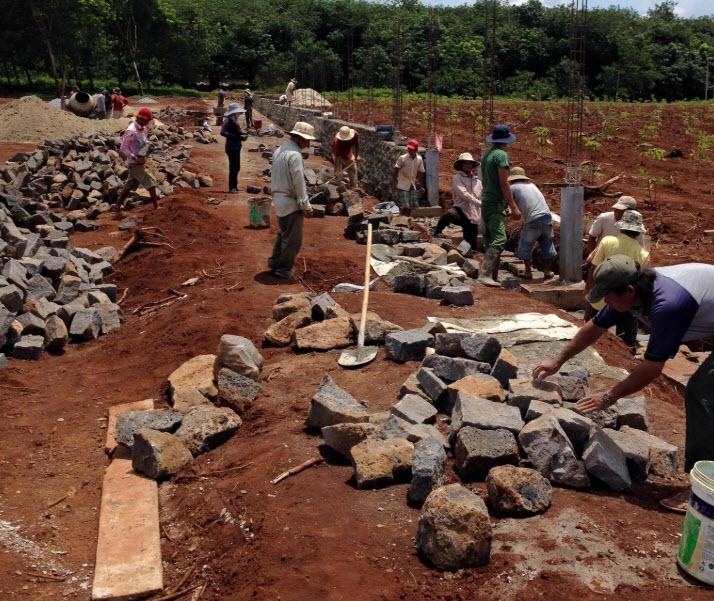Helmet: (594, 256, 642, 295), (618, 207, 646, 233), (451, 152, 482, 174), (487, 124, 517, 144), (288, 122, 317, 142), (506, 165, 529, 182), (134, 108, 153, 123), (224, 105, 245, 118), (334, 124, 352, 139), (402, 138, 419, 152)
Person: (582, 208, 650, 355), (266, 121, 316, 280), (473, 123, 517, 285), (510, 163, 563, 276), (432, 151, 484, 255), (114, 107, 159, 210), (390, 139, 426, 215), (219, 102, 248, 193), (330, 125, 360, 189)
Safety Boot: (477, 248, 501, 286)
